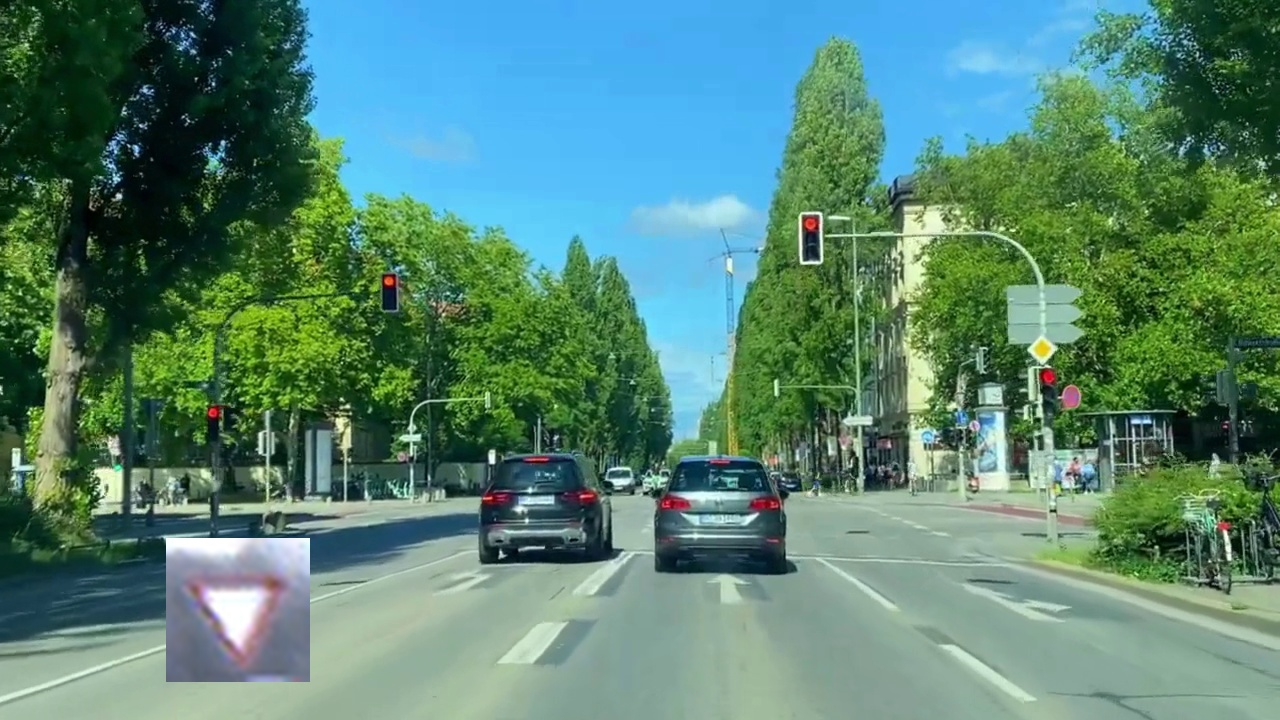Yield: (166, 538, 310, 682)
